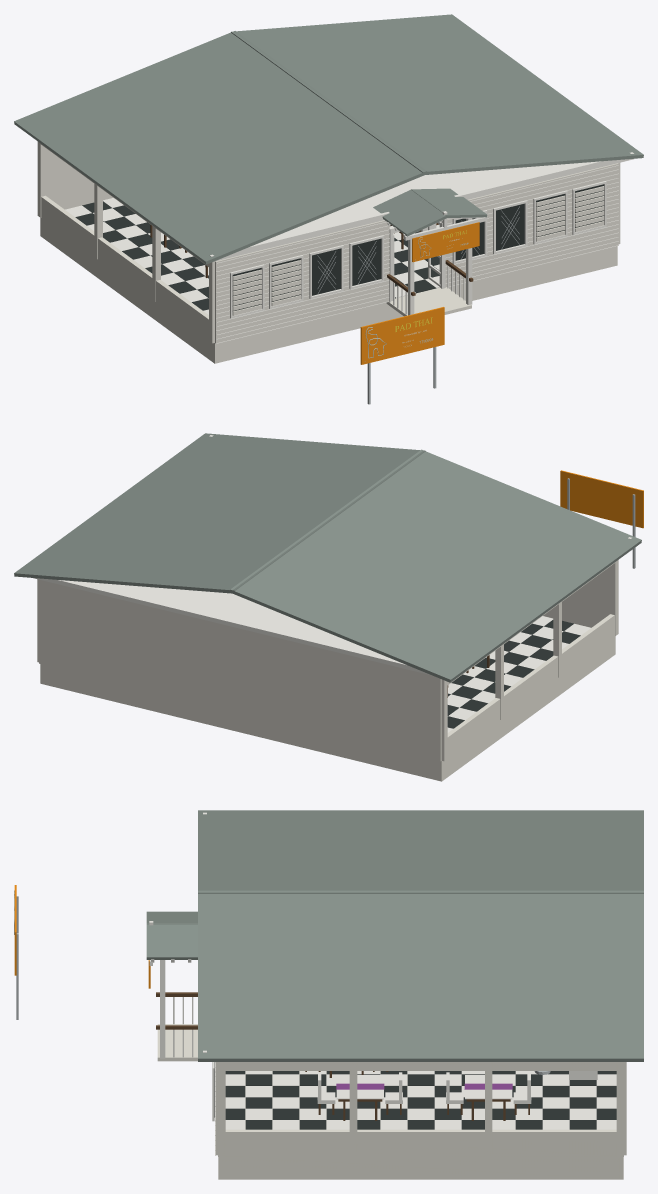
Rendered from elluk_restaurant.glb.
3 renders of one model, top to bottom at view 1: azimuth 30°, elevation 25°; view 2: azimuth 150°, elevation 25°; view 3: azimuth 270°, elevation 25°, orthographic. The views are drawn at different scales.
Parts seen in each view (by area): view 1: Corrugated roof, Cream plaster, White linen, Charcoal tile, Sign orange.001, Sign orange, Chrome; view 2: Corrugated roof, Cream plaster, White linen, Sign orange.001, Charcoal tile; view 3: Corrugated roof, Cream plaster, White linen, Charcoal tile, Dark teak, Purple table runner.
Boxes of the visible parts, x1,y1,x2,y2 form: Corrugated roof: [14, 14, 643, 264]; Cream plaster: [37, 141, 620, 363]; White linen: [65, 152, 634, 343]; Charcoal tile: [75, 184, 603, 311]; Sign orange.001: [360, 307, 444, 364]; Sign orange: [412, 222, 479, 262]; Chrome: [317, 206, 519, 293]; Corrugated roof: [14, 433, 641, 682]; Cream plaster: [37, 560, 618, 781]; White linen: [33, 435, 631, 732]; Sign orange.001: [560, 470, 643, 528]; Charcoal tile: [447, 620, 580, 728]; Corrugated roof: [146, 810, 643, 1061]; Cream plaster: [157, 1024, 626, 1179]; White linen: [149, 812, 616, 1155]; Charcoal tile: [214, 1062, 616, 1129]; Dark teak: [156, 992, 529, 1120]; Purple table runner: [336, 1083, 512, 1089].
Bounding box in the file's own units: 17.41 × 5.68 × 18.65.
